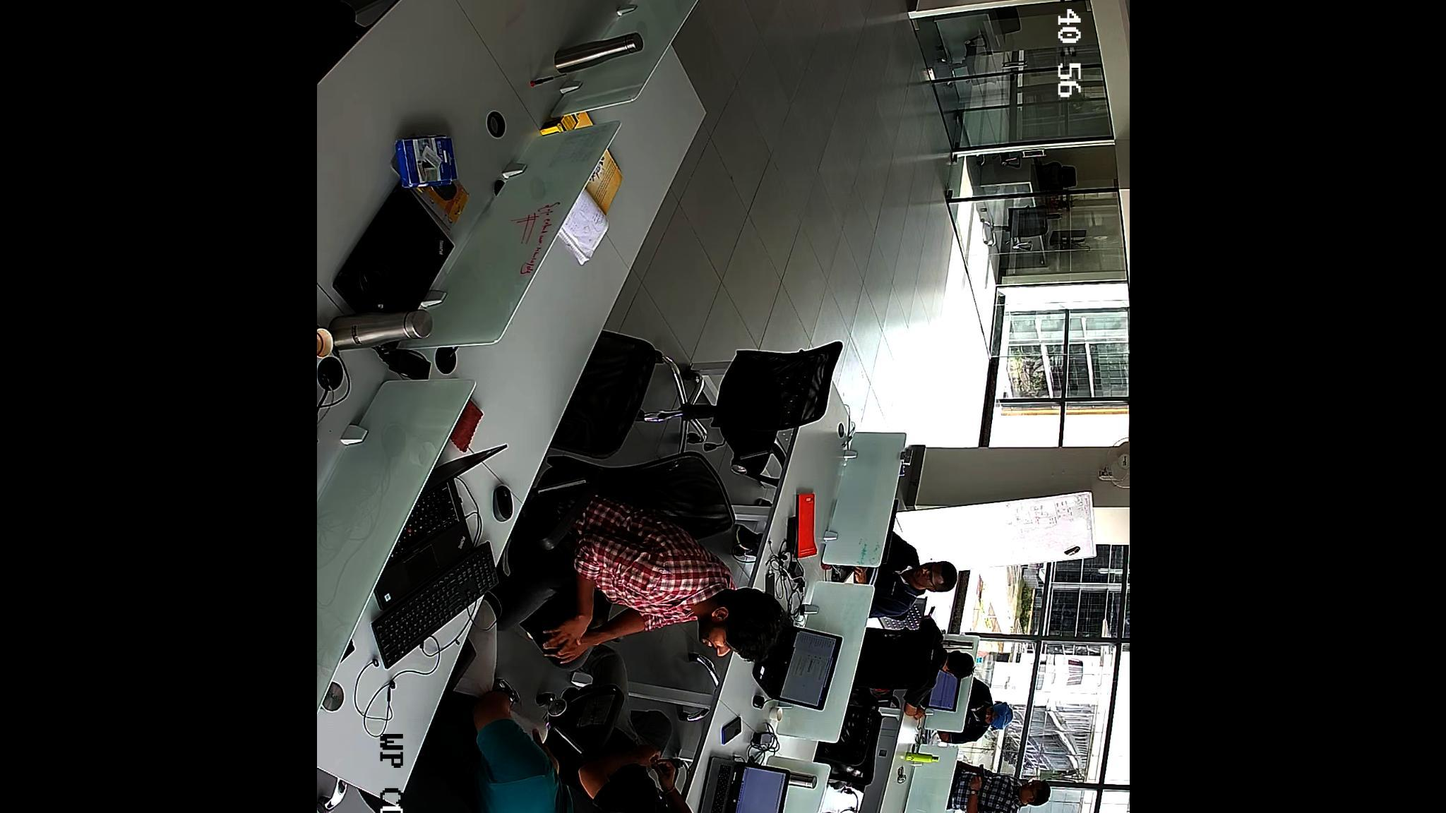gun: (964, 766, 987, 791)
